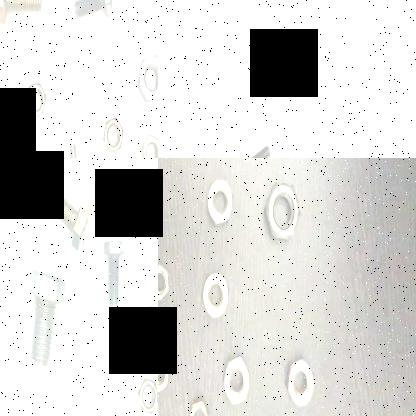Bolts: (20, 257, 69, 370), (34, 172, 95, 252), (96, 223, 126, 313), (68, 0, 117, 30), (0, 0, 44, 32), (240, 141, 273, 158), (61, 140, 91, 158)
NUTS: (264, 173, 300, 245), (200, 166, 234, 228), (199, 262, 231, 324), (282, 356, 317, 410), (19, 70, 49, 130), (222, 345, 250, 407), (133, 44, 158, 108), (131, 373, 158, 416), (98, 112, 124, 156), (140, 290, 158, 343), (130, 128, 158, 158), (158, 260, 170, 304), (187, 395, 209, 416), (158, 349, 168, 392)
